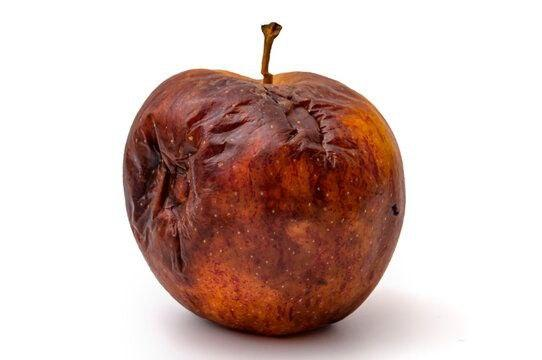Apple: (125, 68, 406, 338)
